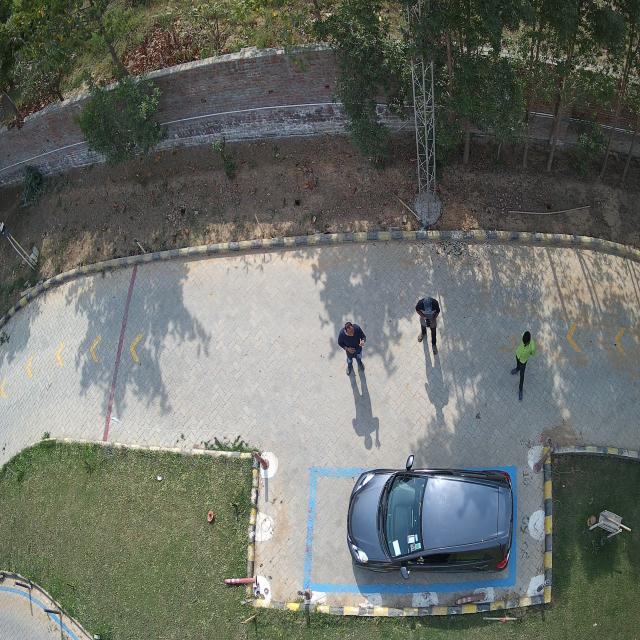car: (346, 467, 512, 577)
